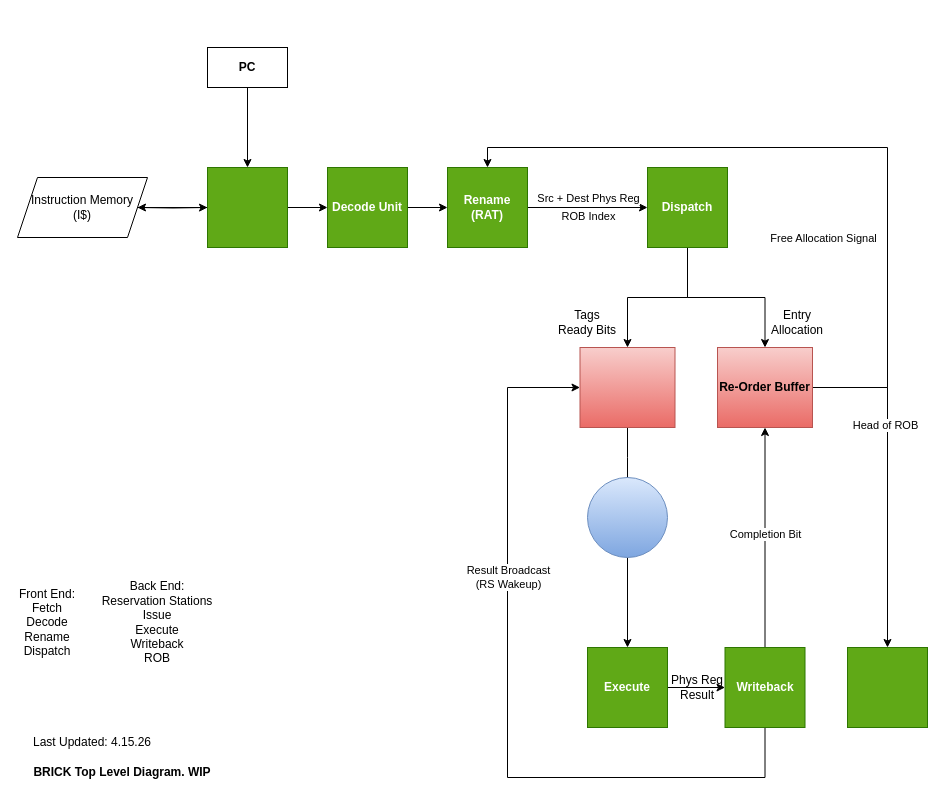
Some shapes in this 945 by 804 pixel diagram are drawn without their labels. The box of each missing label's shape, as (x1, y1, x2, y2) in pixels:
Commit: (846, 646, 928, 728)
Fetch Unit: (206, 166, 288, 248)
Reservation Stations: (579, 346, 675, 428)
Scheduling Logic: (586, 476, 668, 558)
